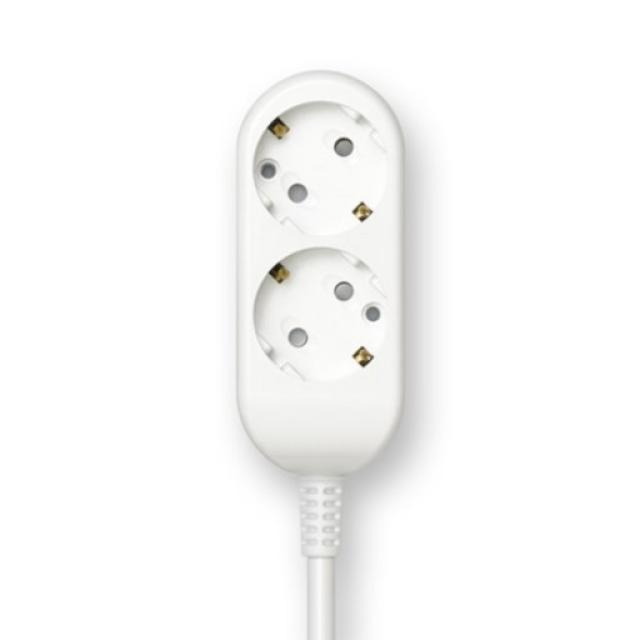typeb: (168, 48, 436, 532)
